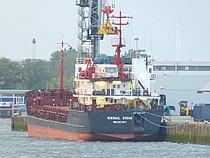Ship: (24, 11, 174, 145)
